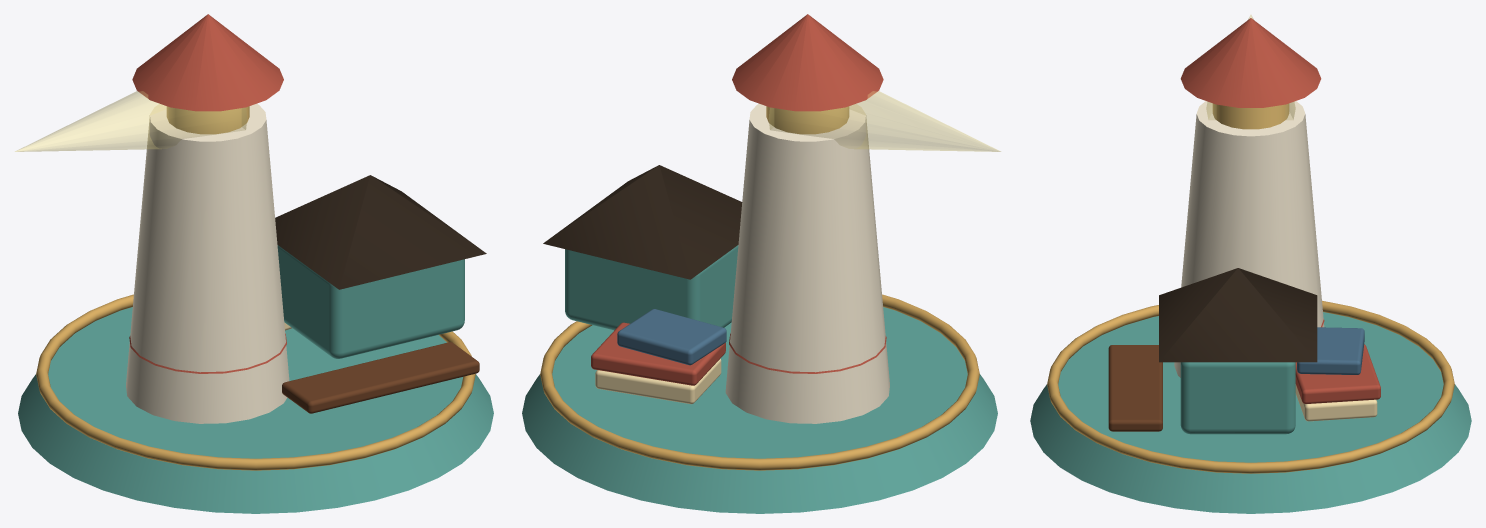
File: care-lighthouse.glb
The picture shows the model from 3 angles, left to right: view 1: azimuth 30°, elevation 25°; view 2: azimuth 150°, elevation 25°; view 3: azimuth 270°, elevation 25°; orthographic projection. The views are drawn at different scales.
Parts seen in each view (by area): view 1: asset-plinth, lighthouse-body, care-house-roof, care-house, lighthouse-roof, plinth-rim, light-beam, dock, lantern-room; view 2: asset-plinth, lighthouse-body, care-house-roof, care-house, lighthouse-roof, plinth-rim, light-beam, book-cover-small, book-cover, book-pages, lantern-room; view 3: asset-plinth, lighthouse-body, care-house-roof, plinth-rim, care-house, lighthouse-roof, dock, book-cover, book-cover-small, lantern-room, book-pages.
Part boxes in pixels (x1=…): asset-plinth: x1=18, y1=307, x2=493, y2=513; lighthouse-body: x1=126, y1=103, x2=289, y2=423; care-house-roof: x1=275, y1=175, x2=486, y2=289; care-house: x1=277, y1=245, x2=464, y2=358; lighthouse-roof: x1=132, y1=14, x2=283, y2=111; plinth-rim: x1=36, y1=294, x2=475, y2=470; light-beam: x1=15, y1=91, x2=247, y2=151; dock: x1=282, y1=342, x2=479, y2=413; lantern-room: x1=166, y1=106, x2=249, y2=134; asset-plinth: x1=522, y1=307, x2=997, y2=513; lighthouse-body: x1=725, y1=103, x2=889, y2=423; care-house-roof: x1=543, y1=165, x2=742, y2=279; care-house: x1=565, y1=245, x2=738, y2=330; lighthouse-roof: x1=732, y1=14, x2=883, y2=111; plinth-rim: x1=540, y1=294, x2=979, y2=470; light-beam: x1=768, y1=91, x2=1000, y2=151; book-cover-small: x1=617, y1=309, x2=726, y2=365; book-cover: x1=591, y1=322, x2=725, y2=385; book-pages: x1=595, y1=358, x2=721, y2=404; lantern-room: x1=766, y1=106, x2=849, y2=134; asset-plinth: x1=1030, y1=312, x2=1471, y2=513; lighthouse-body: x1=1174, y1=101, x2=1324, y2=377; care-house-roof: x1=1159, y1=268, x2=1317, y2=362; plinth-rim: x1=1047, y1=300, x2=1454, y2=473; care-house: x1=1180, y1=362, x2=1295, y2=434; lighthouse-roof: x1=1180, y1=18, x2=1321, y2=107; dock: x1=1108, y1=345, x2=1162, y2=431; book-cover: x1=1295, y1=344, x2=1380, y2=403; book-cover-small: x1=1297, y1=327, x2=1364, y2=374; lantern-room: x1=1212, y1=103, x2=1289, y2=129; book-pages: x1=1295, y1=384, x2=1377, y2=421.
Bounding box in the file's own units: 3 × 2.63 × 2.76.
